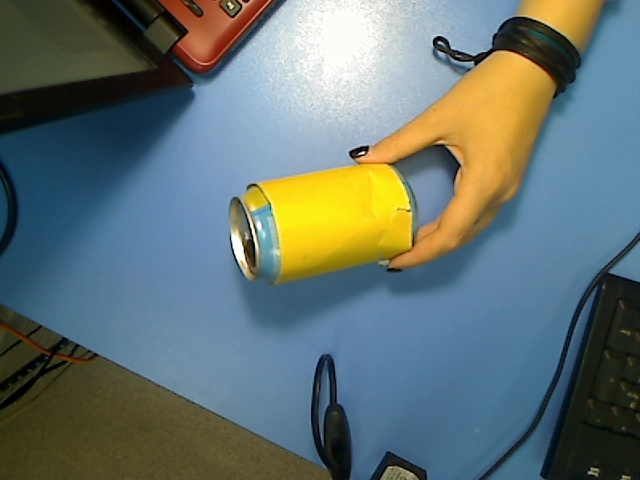can: (226, 161, 421, 287)
